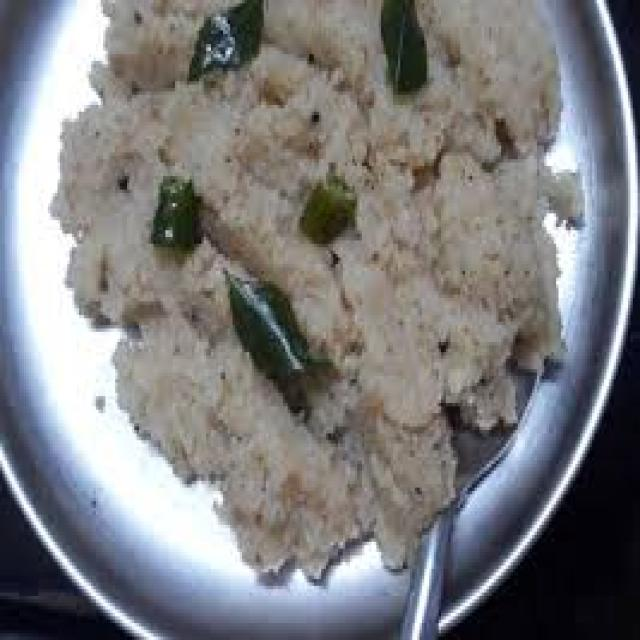UPMA: (43, 0, 566, 572)
